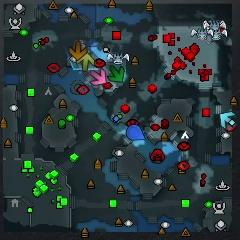p1: (126, 124, 146, 141)
x1: (90, 69, 106, 86)
x2: (77, 54, 95, 72)
x3: (219, 112, 236, 128)
x4: (108, 65, 125, 82)
x5: (69, 41, 88, 60)
